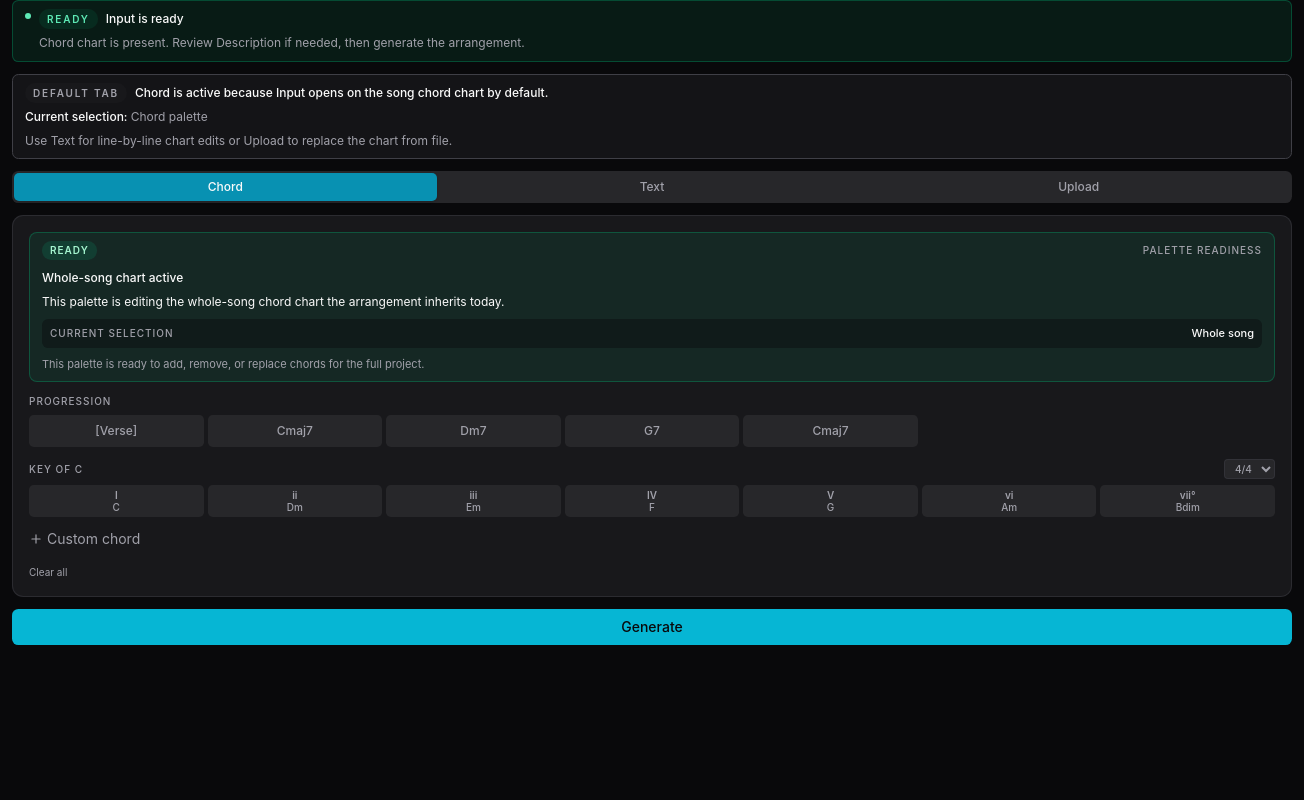
Test case: InputSection upload tab › keeps the current input tab and default behavior explicit as the operator switches tabs
Click the button "Text". click: (652, 187)
box: [441,173,863,201]
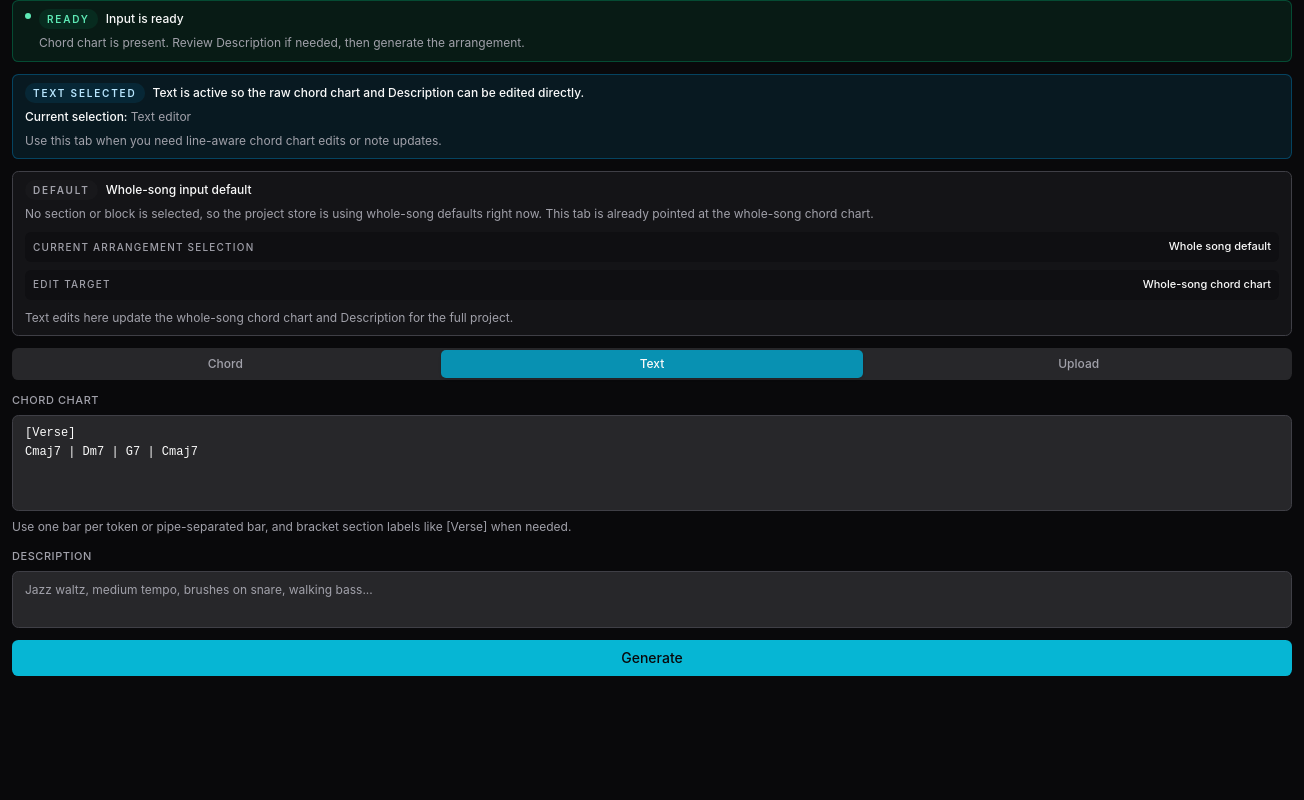
Now the element that starts with "Text selected" is shown, box [33,87,136,99]
Now the element that starts with "Text selected" shows "Text is active so the raw chord chart and Description can be edited directly.", box [152,85,584,100]
Click the button "Upload". click: (1079, 364)
box: [867,350,1290,378]
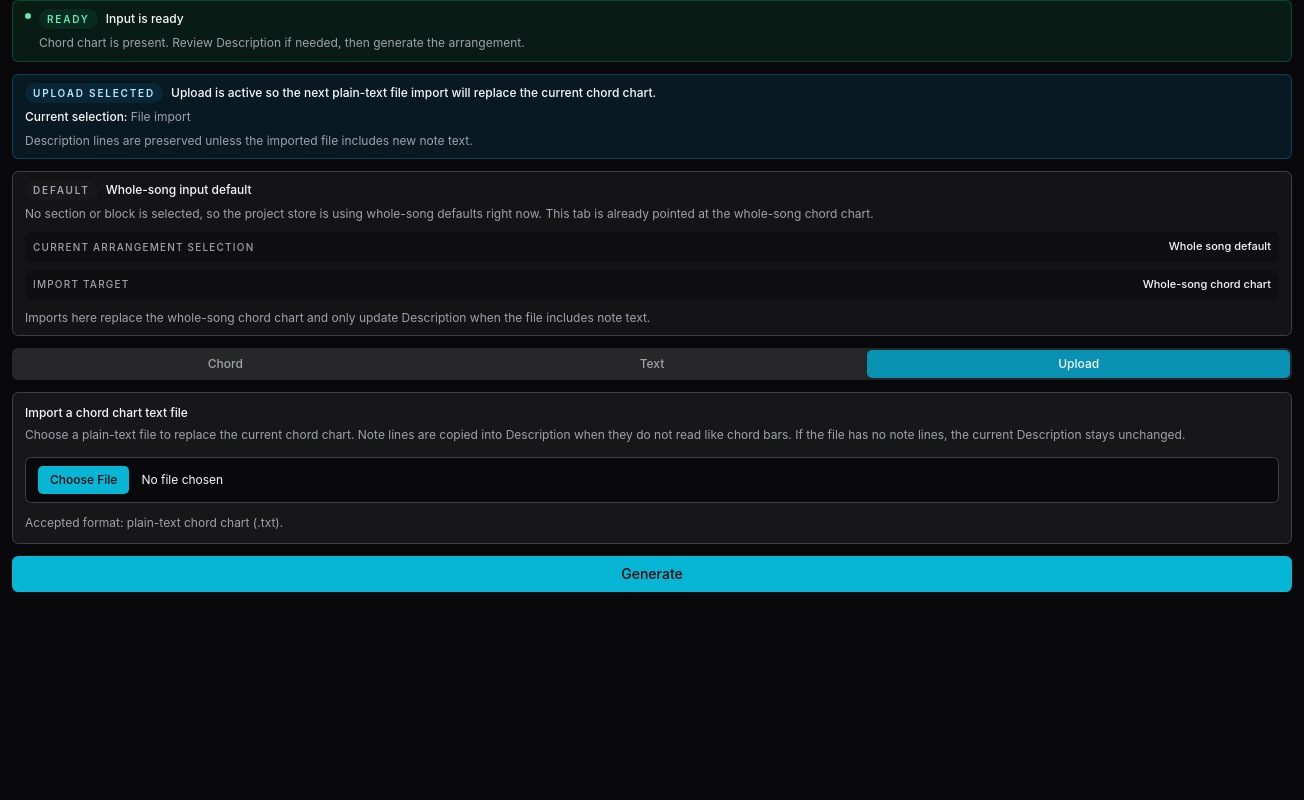
Now the element that starts with "Upload selected" is shown, box [33,87,155,99]
Now the element that starts with "Upload selected" shows "Upload is active so the next plain-text file import will replace the current chord chart.", box [171,85,656,100]
